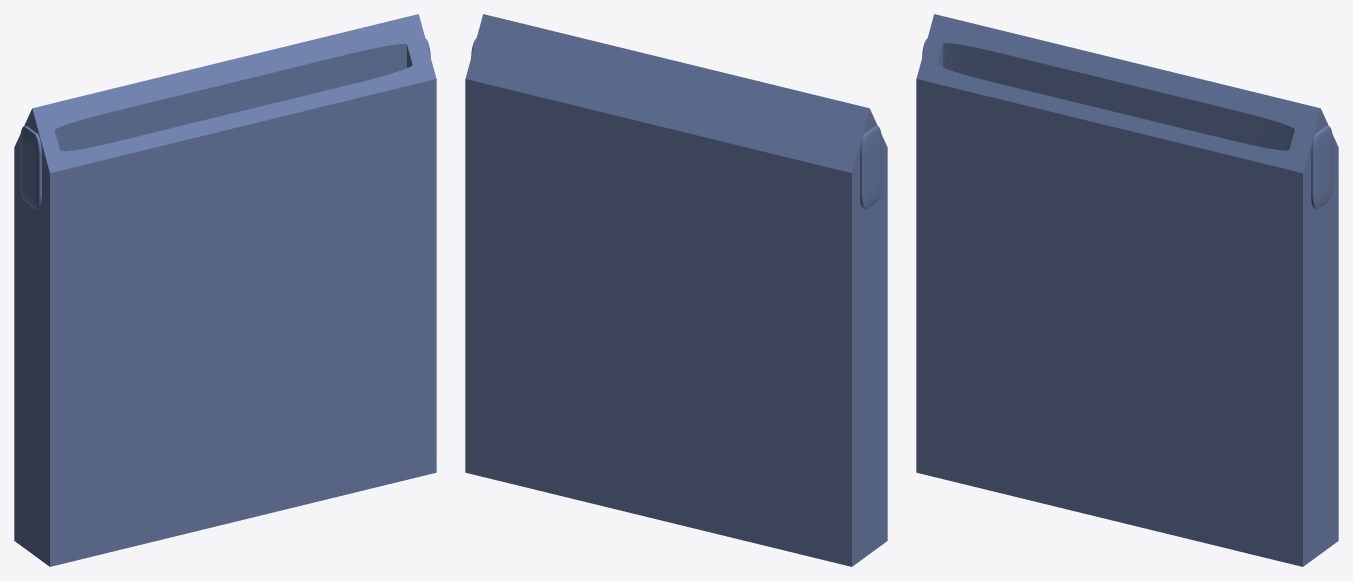
Rendered from Mitad de Pared.glb.
3 views of the same model, side by side, from view 1: azimuth 30°, elevation 25°; view 2: azimuth 150°, elevation 25°; view 3: azimuth 330°, elevation 25° (orthographic).
Parts seen in each view (by area): view 1: Mesh_Mesh_head_geo.001_lambert2SG.001; view 2: Mesh_Mesh_head_geo.001_lambert2SG.001; view 3: Mesh_Mesh_head_geo.001_lambert2SG.001.
Part boxes in pixels (x1,y1,x2,y2): Mesh_Mesh_head_geo.001_lambert2SG.001: (14,14,436,566); Mesh_Mesh_head_geo.001_lambert2SG.001: (465,14,887,566); Mesh_Mesh_head_geo.001_lambert2SG.001: (916,14,1338,566).
Size of the model in its own units: 230 by 249 by 36.
